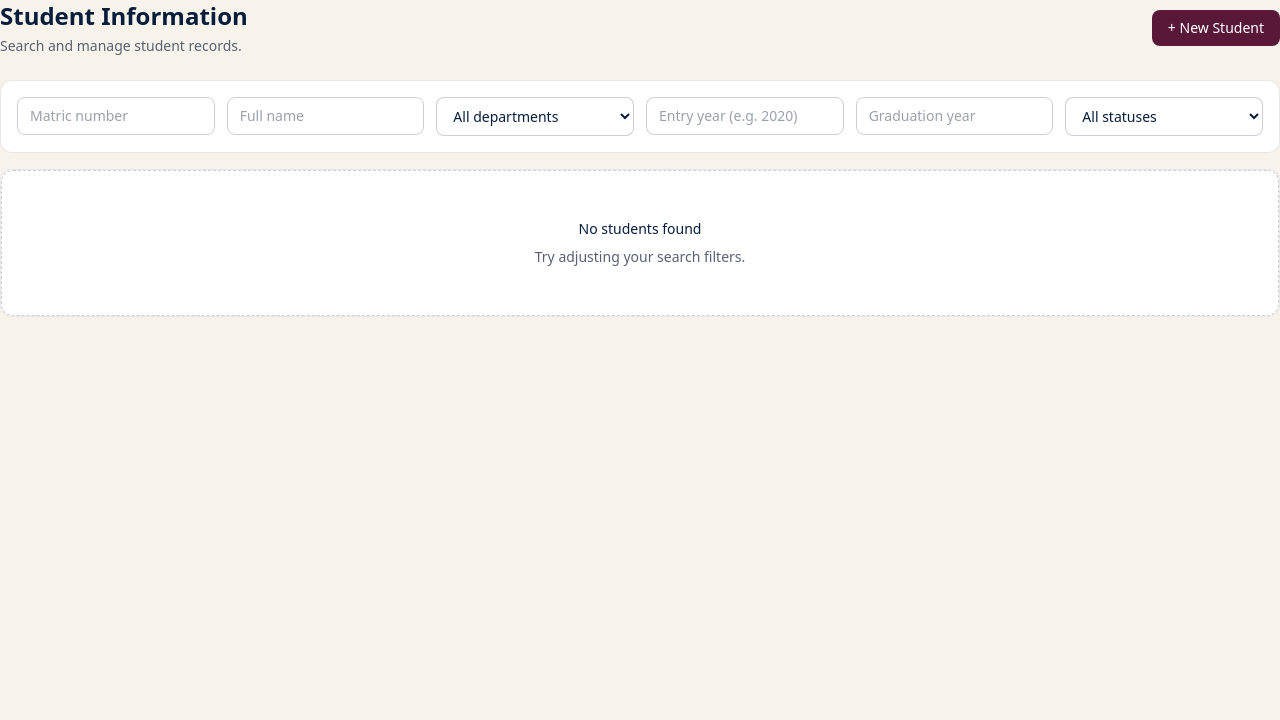
StudentsPage create-student dropdowns › explains missing reference data and reloads selectable sessions and levels without clearing the form
Click the button "+ New Student": (1216, 28) x1=1152 y1=10 x2=1279 y2=46
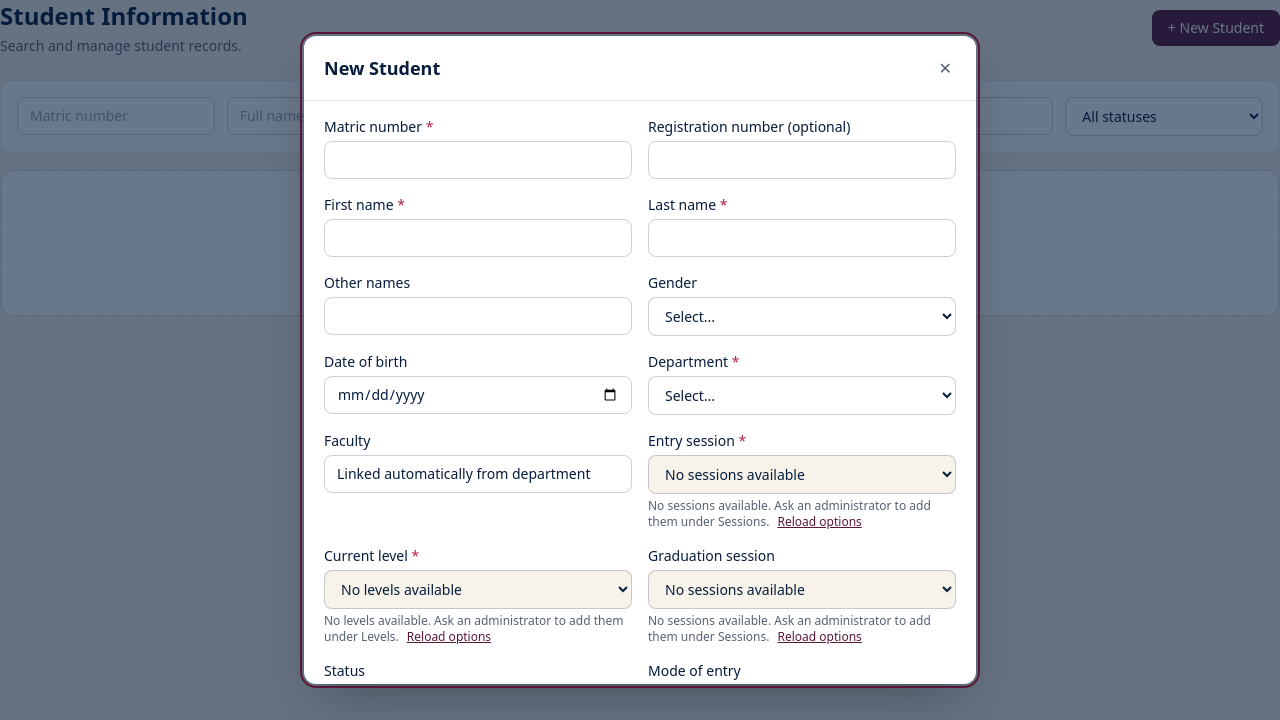
Result: the text "No sessions available. Ask an administrator" below "Entry session" is shown at x1=648 y1=497 x2=931 y2=530
Result: the dropdown labelled "Entry session *" is disabled at x1=648 y1=455 x2=956 y2=494
Result: the dropdown labelled "Current level *" is disabled at x1=324 y1=570 x2=632 y2=609
In the field labelled "First name *": (478, 238) x1=324 y1=219 x2=632 y2=257, type "Ada"
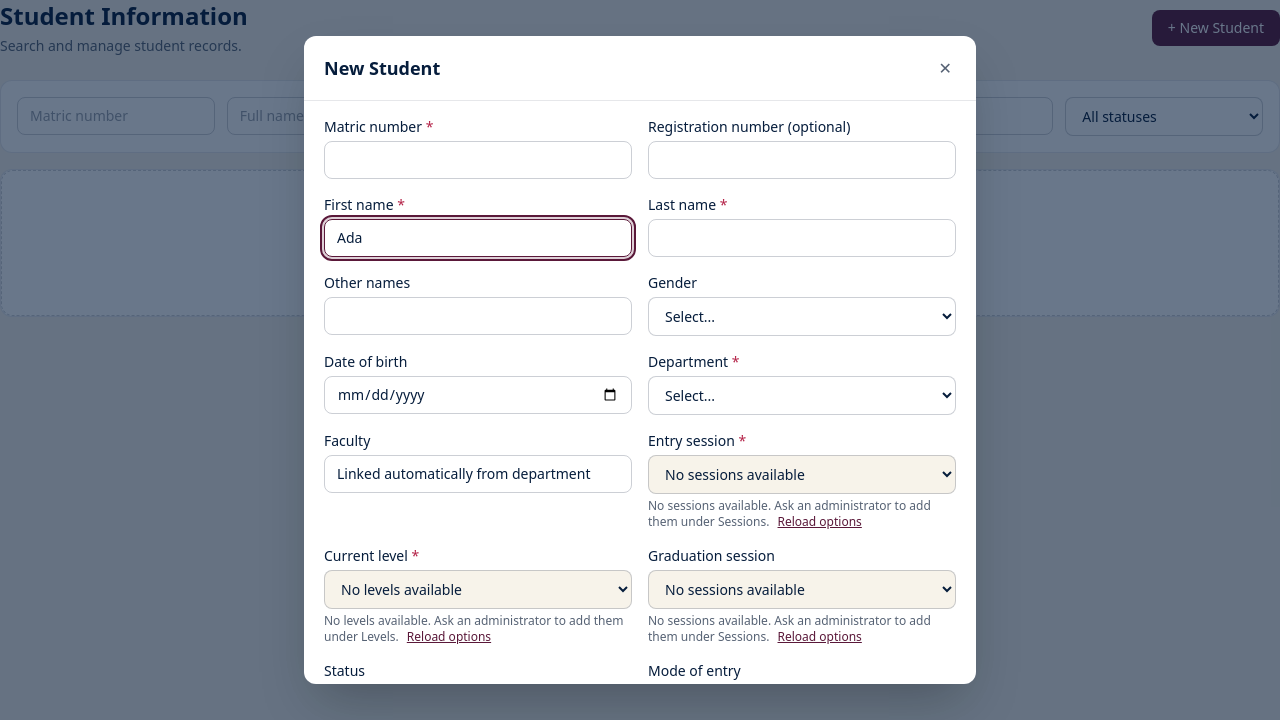
Click the button with aria-label "Reload Entry session": (820, 522) x1=778 y1=514 x2=862 y2=530
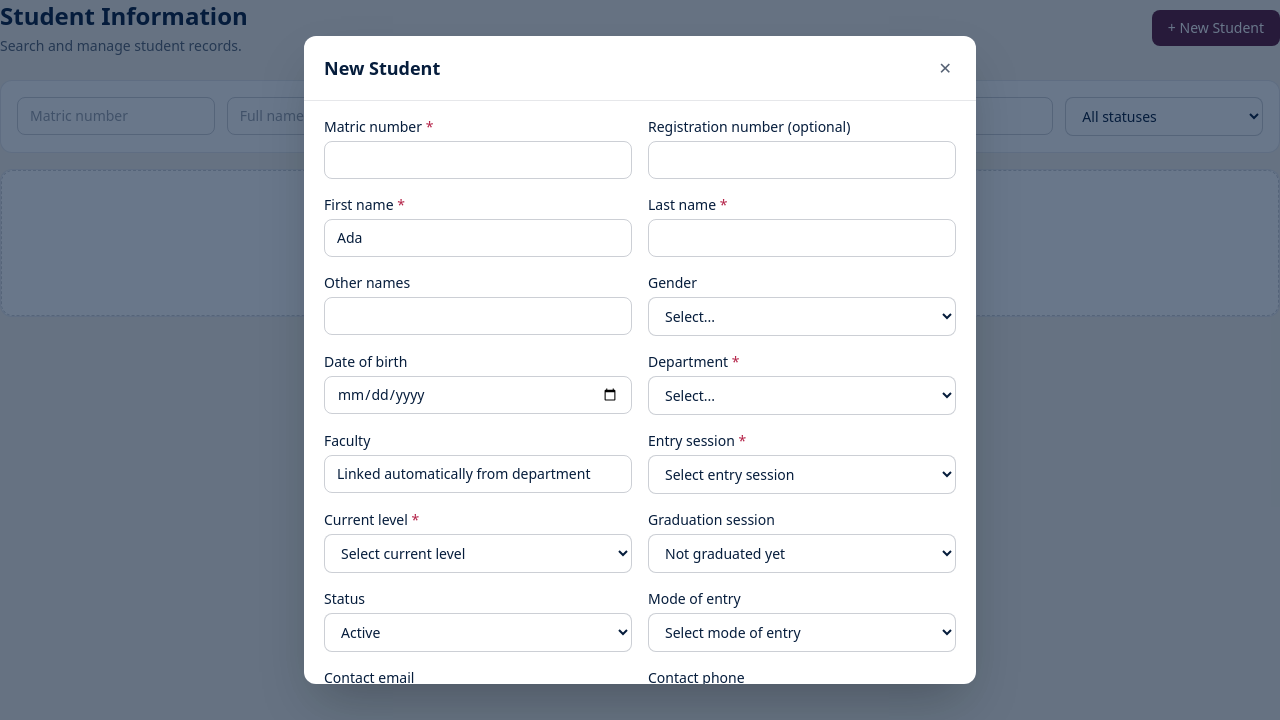
Result: the dropdown labelled "Entry session *" is enabled
Select "2023/2024" in the dropdown labelled "Entry session *": (802, 474) x1=648 y1=455 x2=956 y2=494
Select "100" in the dropdown labelled "Current level *": (478, 554) x1=324 y1=534 x2=632 y2=573
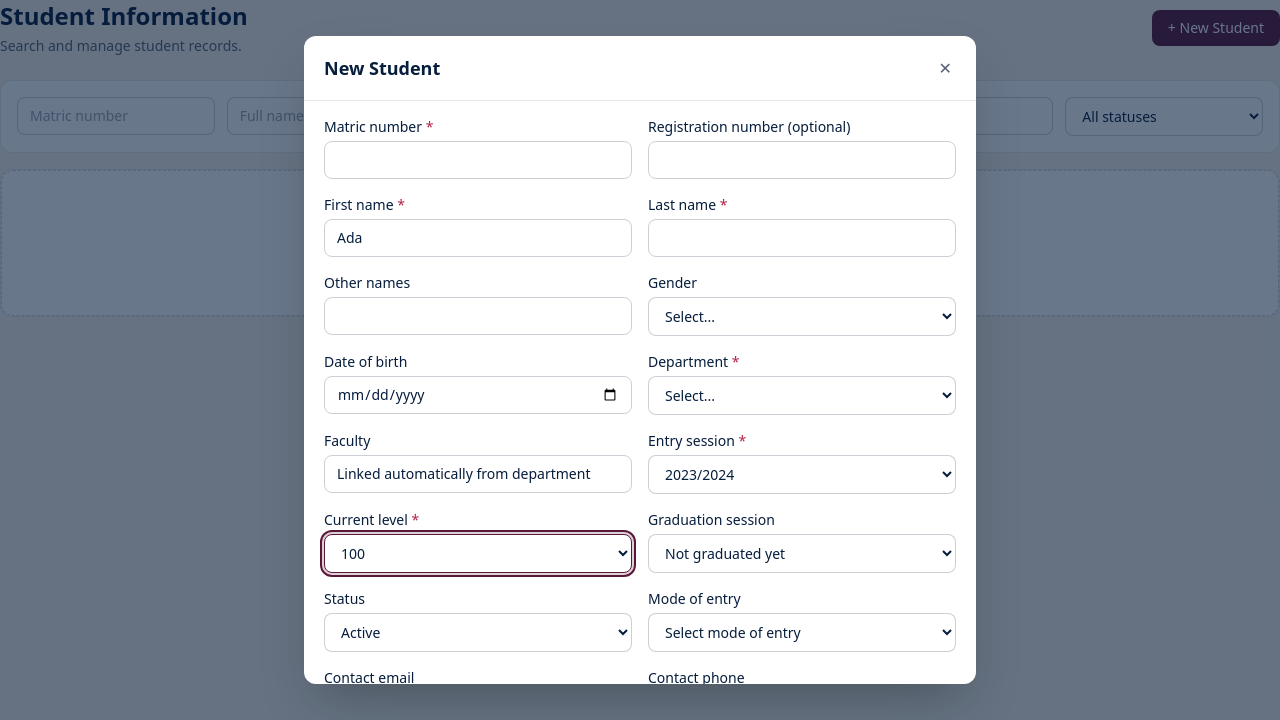
Select "2023/2024" in the dropdown labelled "Graduation session": (802, 554) x1=648 y1=534 x2=956 y2=573
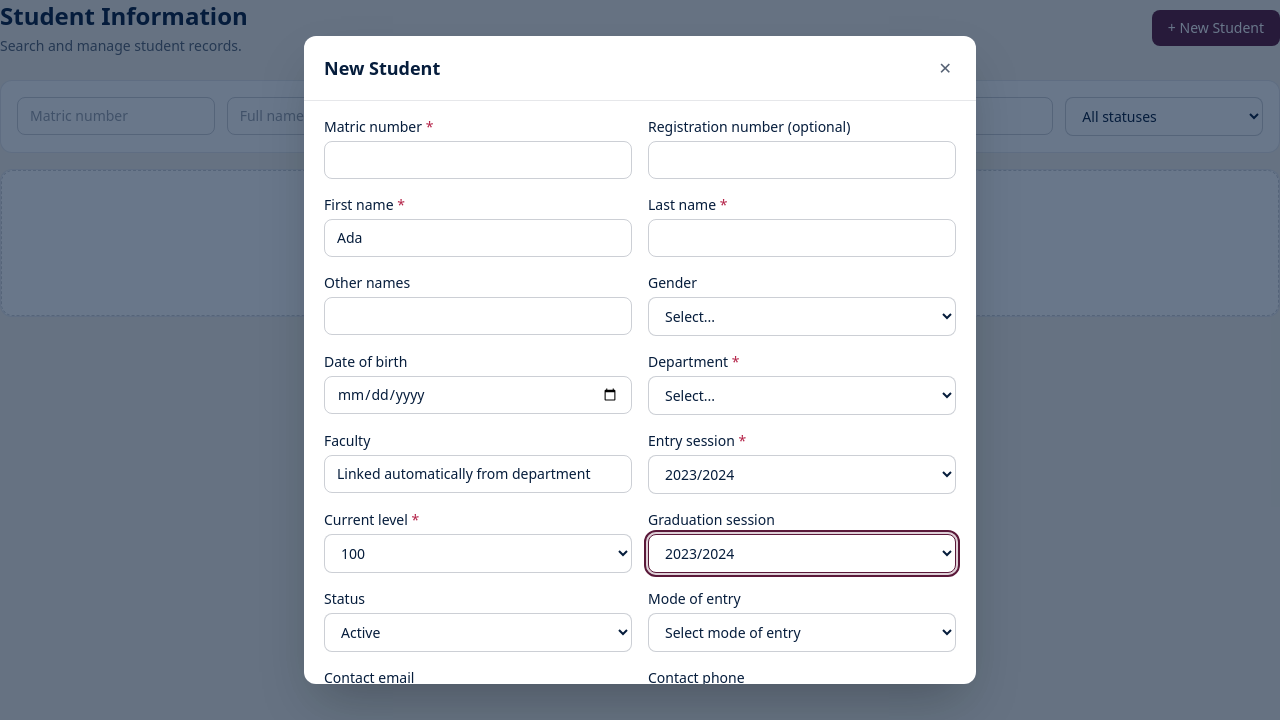
Select "Not graduated yet" in the dropdown labelled "Graduation session": (802, 554) x1=648 y1=534 x2=956 y2=573
(page scrolled)
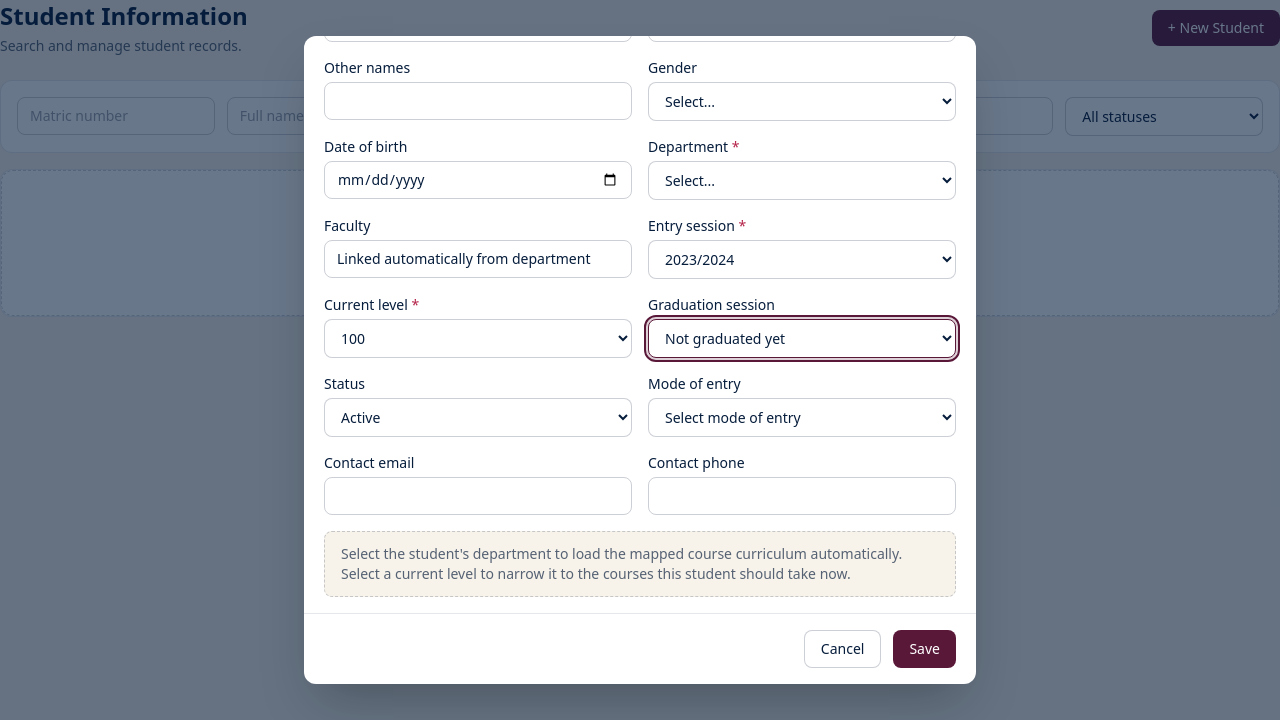
Result: the button "Save" is enabled at x1=893 y1=630 x2=956 y2=668
